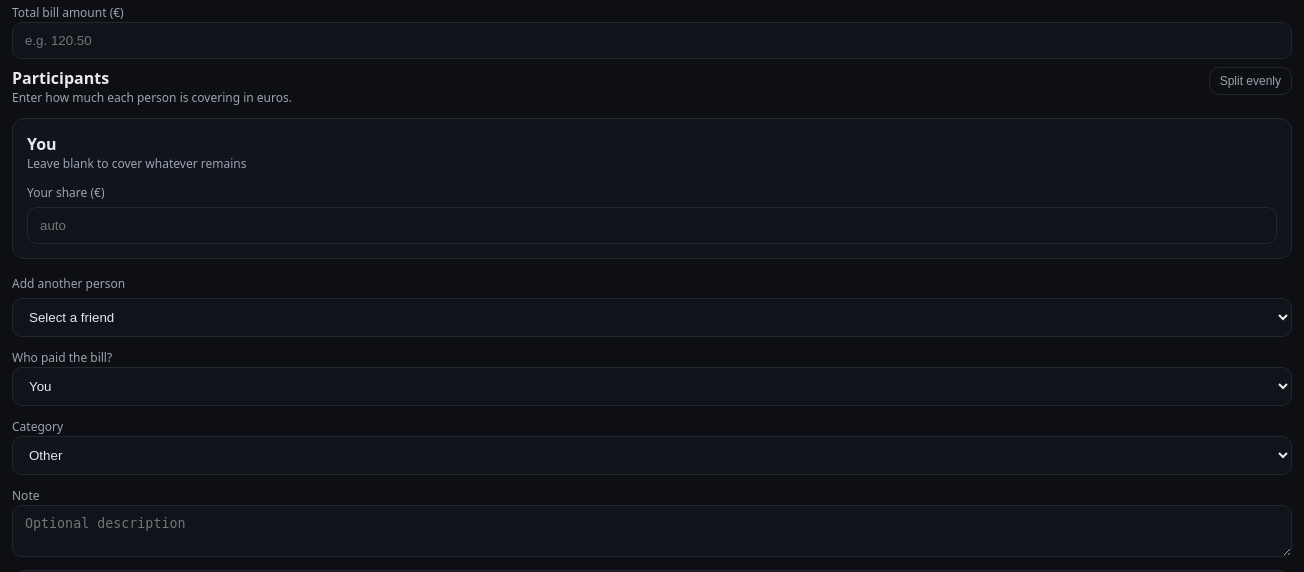
Test: SplitForm › Adding participants › can add multiple friends
Select "Alice" in the dropdown labelled "Add another person" at x=652, y=318, box left=12, top=298, right=1292, bottom=337
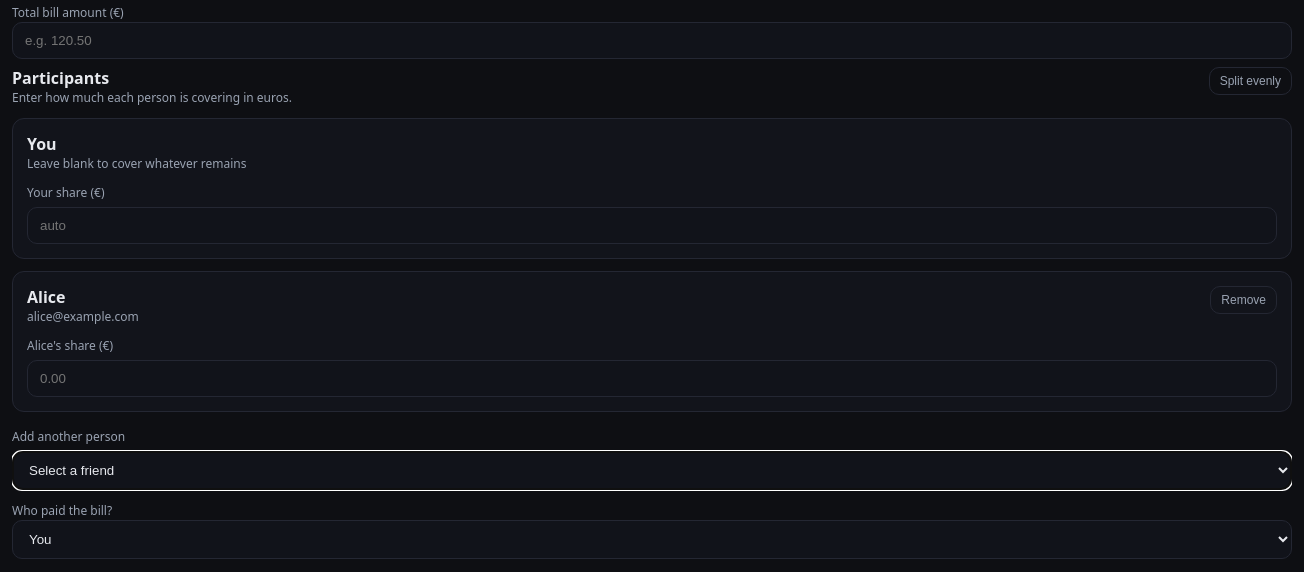
Result: the text "Alice's share (€)" is shown at left=27, top=337, right=113, bottom=354
//  Add Bob
Select "Bob" in the dropdown labelled "Add another person" at x=652, y=470, box left=12, top=451, right=1292, bottom=490
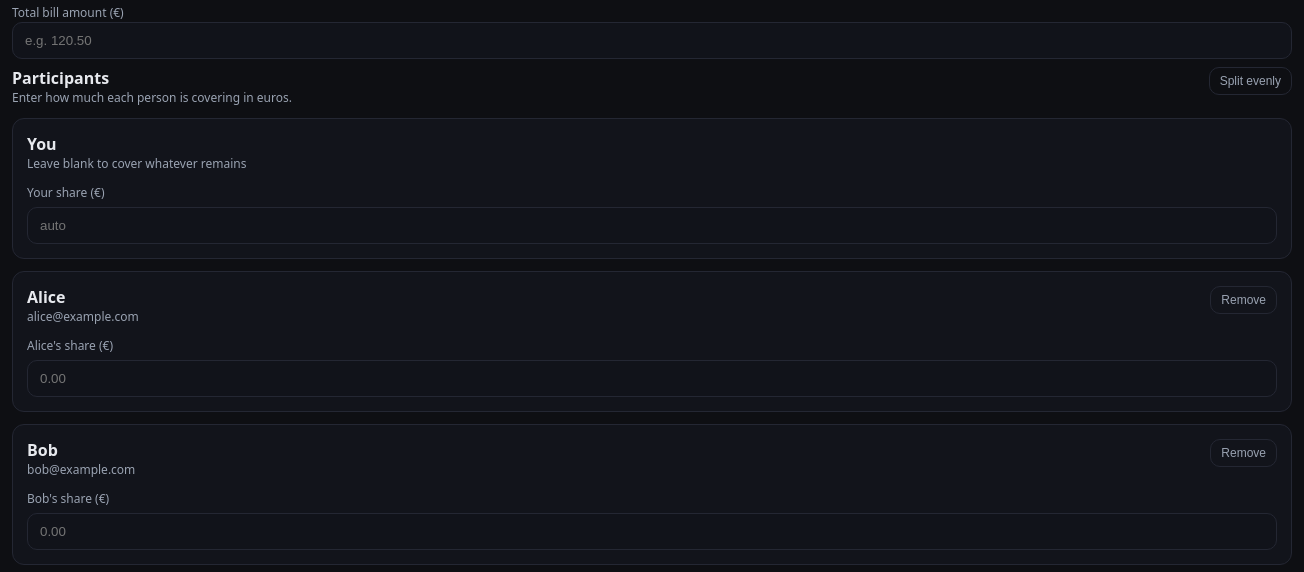
Result: the text "Bob's share (€)" is shown at left=27, top=490, right=109, bottom=507
